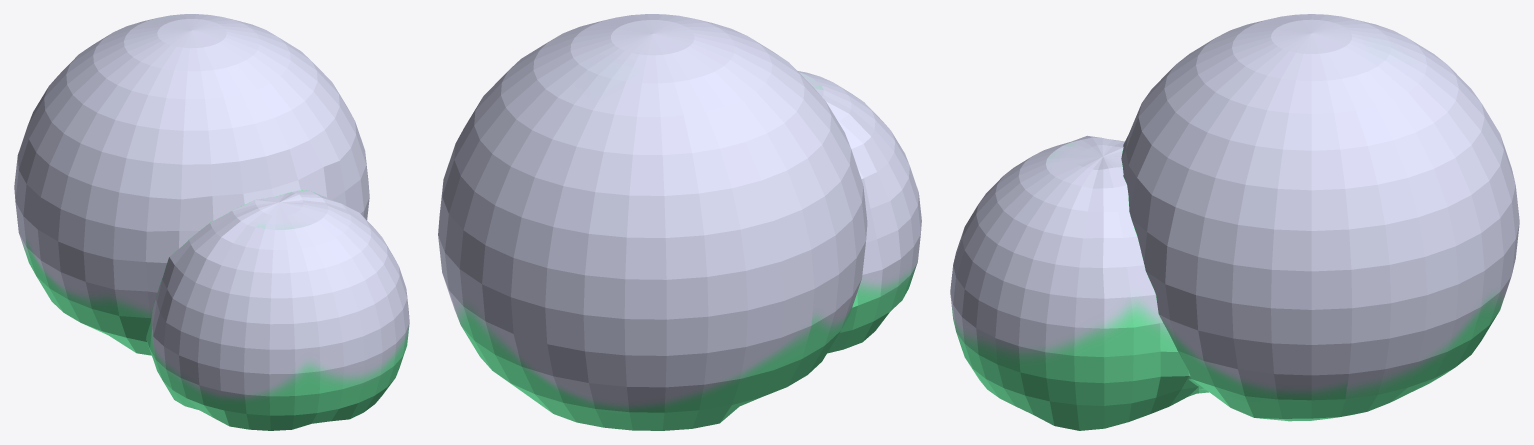
File: with_snow_busk.fbx
3 renders of one model, left to right at view 1: azimuth 30°, elevation 25°; view 2: azimuth 150°, elevation 25°; view 3: azimuth 270°, elevation 25°, orthographic. The views are drawn at different scales.
Parts seen in each view (by area): view 1: Sphere; view 2: Sphere; view 3: Sphere.
Part boxes in pixels (x1=…): Sphere: x1=14, y1=14, x2=409, y2=430; Sphere: x1=438, y1=14, x2=921, y2=430; Sphere: x1=950, y1=14, x2=1519, y2=430.
Bounding box in the file's own units: 3.27 × 3.11 × 4.48.
1 material, 1 textured.
